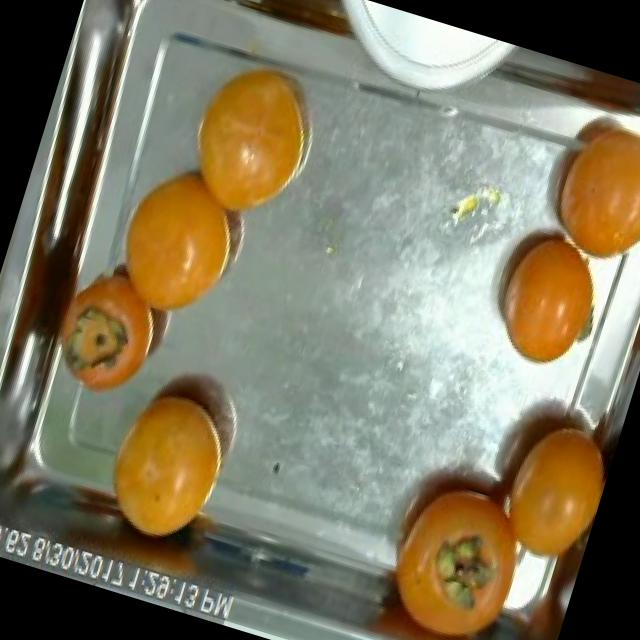Fruit: (459, 364, 630, 585), (76, 362, 254, 567), (90, 143, 268, 346), (166, 39, 340, 238), (466, 199, 622, 385), (520, 83, 640, 285), (228, 0, 379, 66)
